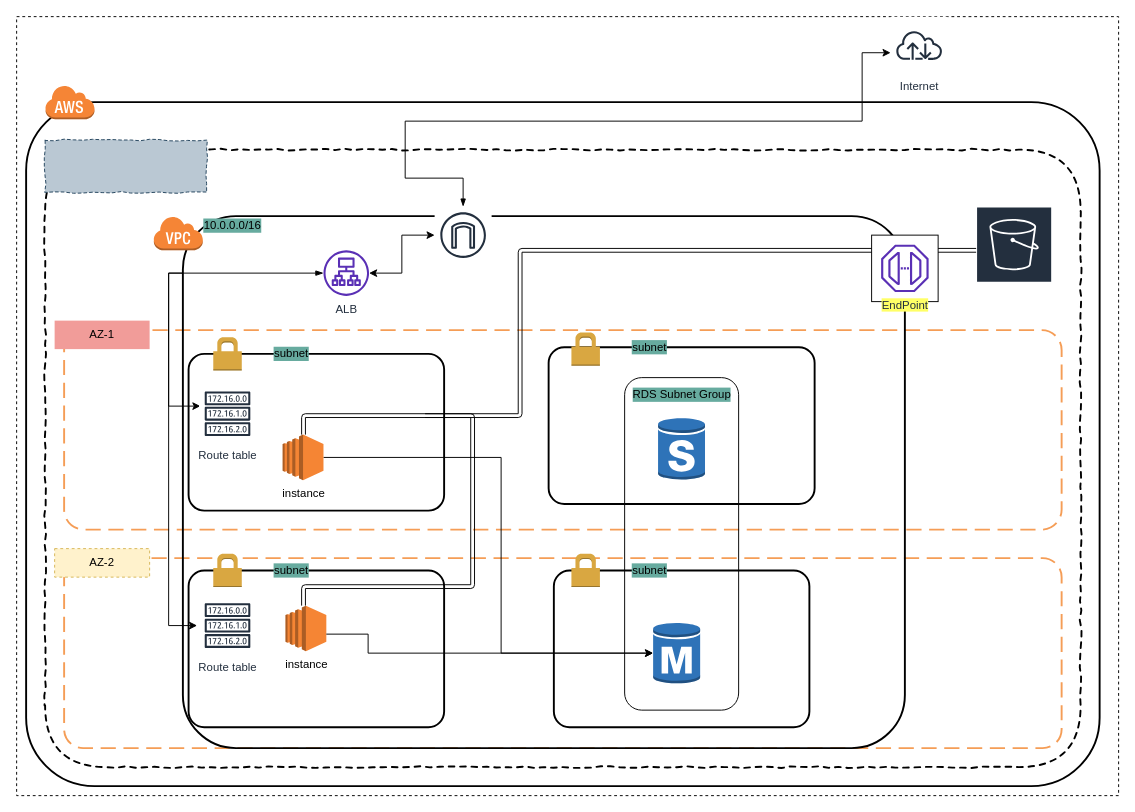
The diagram is 1135 pixels wide and 812 high, and some of its shapes have lost their labels. Here are the shapes that lost their labels. From the top down, the centre of each, then its label:
At [125,165]: "region".
At [463,235]: "Internet gateway".
At [1013,254]: "Amazon S3".
At [676,652]: "mysql-db-server".
